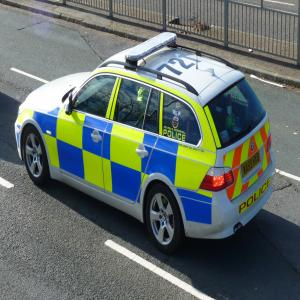Vehicle-registration-plate: (240, 148, 263, 178)
